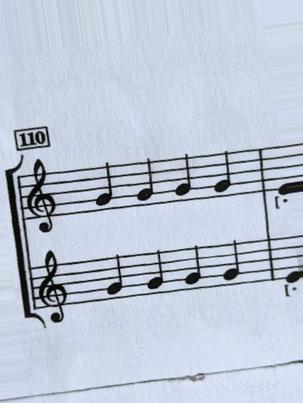note: (89, 160, 124, 215), (135, 154, 166, 213), (97, 253, 129, 300), (209, 152, 236, 201), (220, 241, 248, 287), (171, 153, 195, 206), (142, 248, 167, 298), (183, 245, 208, 292)
